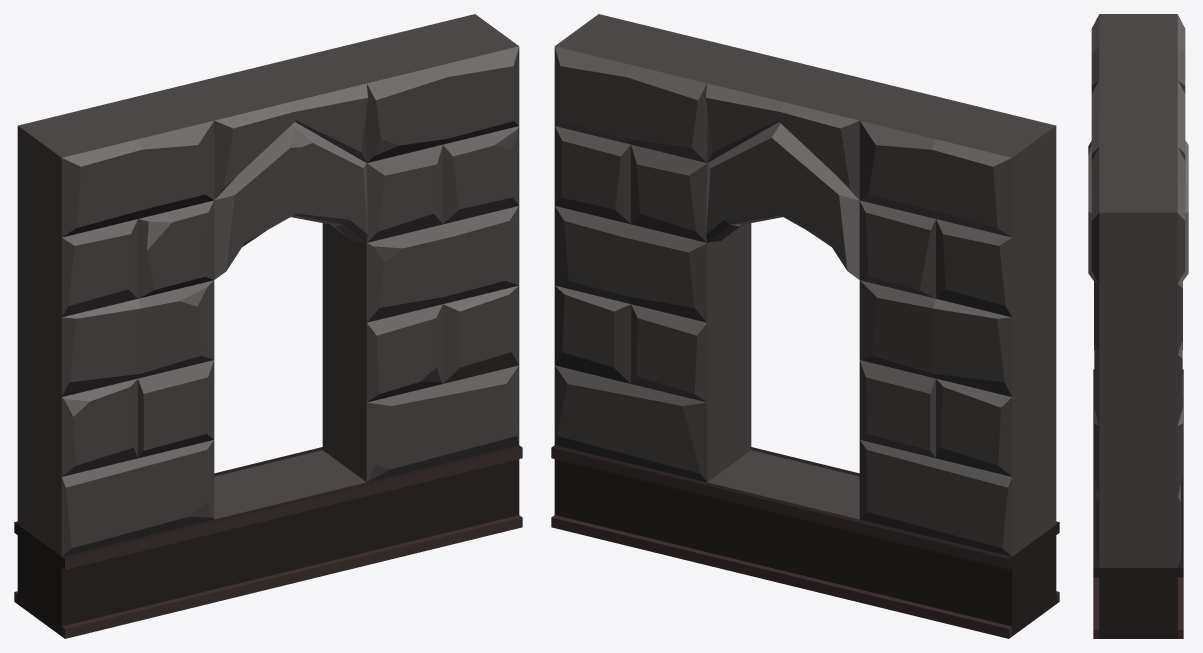
The model's file is Module_Stone_Straight_Window_01.glb.
The picture shows the model from 3 angles, left to right: view 1: azimuth 30°, elevation 25°; view 2: azimuth 150°, elevation 25°; view 3: azimuth 270°, elevation 25°; orthographic projection. The views are drawn at different scales.
Visible parts, largest first — view 1: Module_Stone_Straight_Window_01; view 2: Module_Stone_Straight_Window_01; view 3: Module_Stone_Straight_Window_01.
Part boxes in pixels (left/top/right/bottom): Module_Stone_Straight_Window_01: left=14, top=14, right=522, bottom=638; Module_Stone_Straight_Window_01: left=551, top=14, right=1059, bottom=638; Module_Stone_Straight_Window_01: left=1088, top=14, right=1188, bottom=638.
Size of what is drawn, in the model's own units: 4 by 4 by 0.8527.
Materials: 1 (1 with a texture image).
